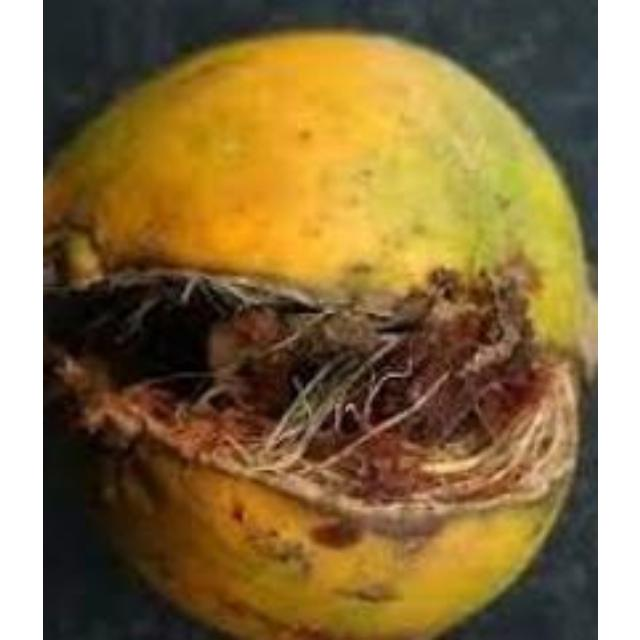damaged: (42, 32, 594, 637)
